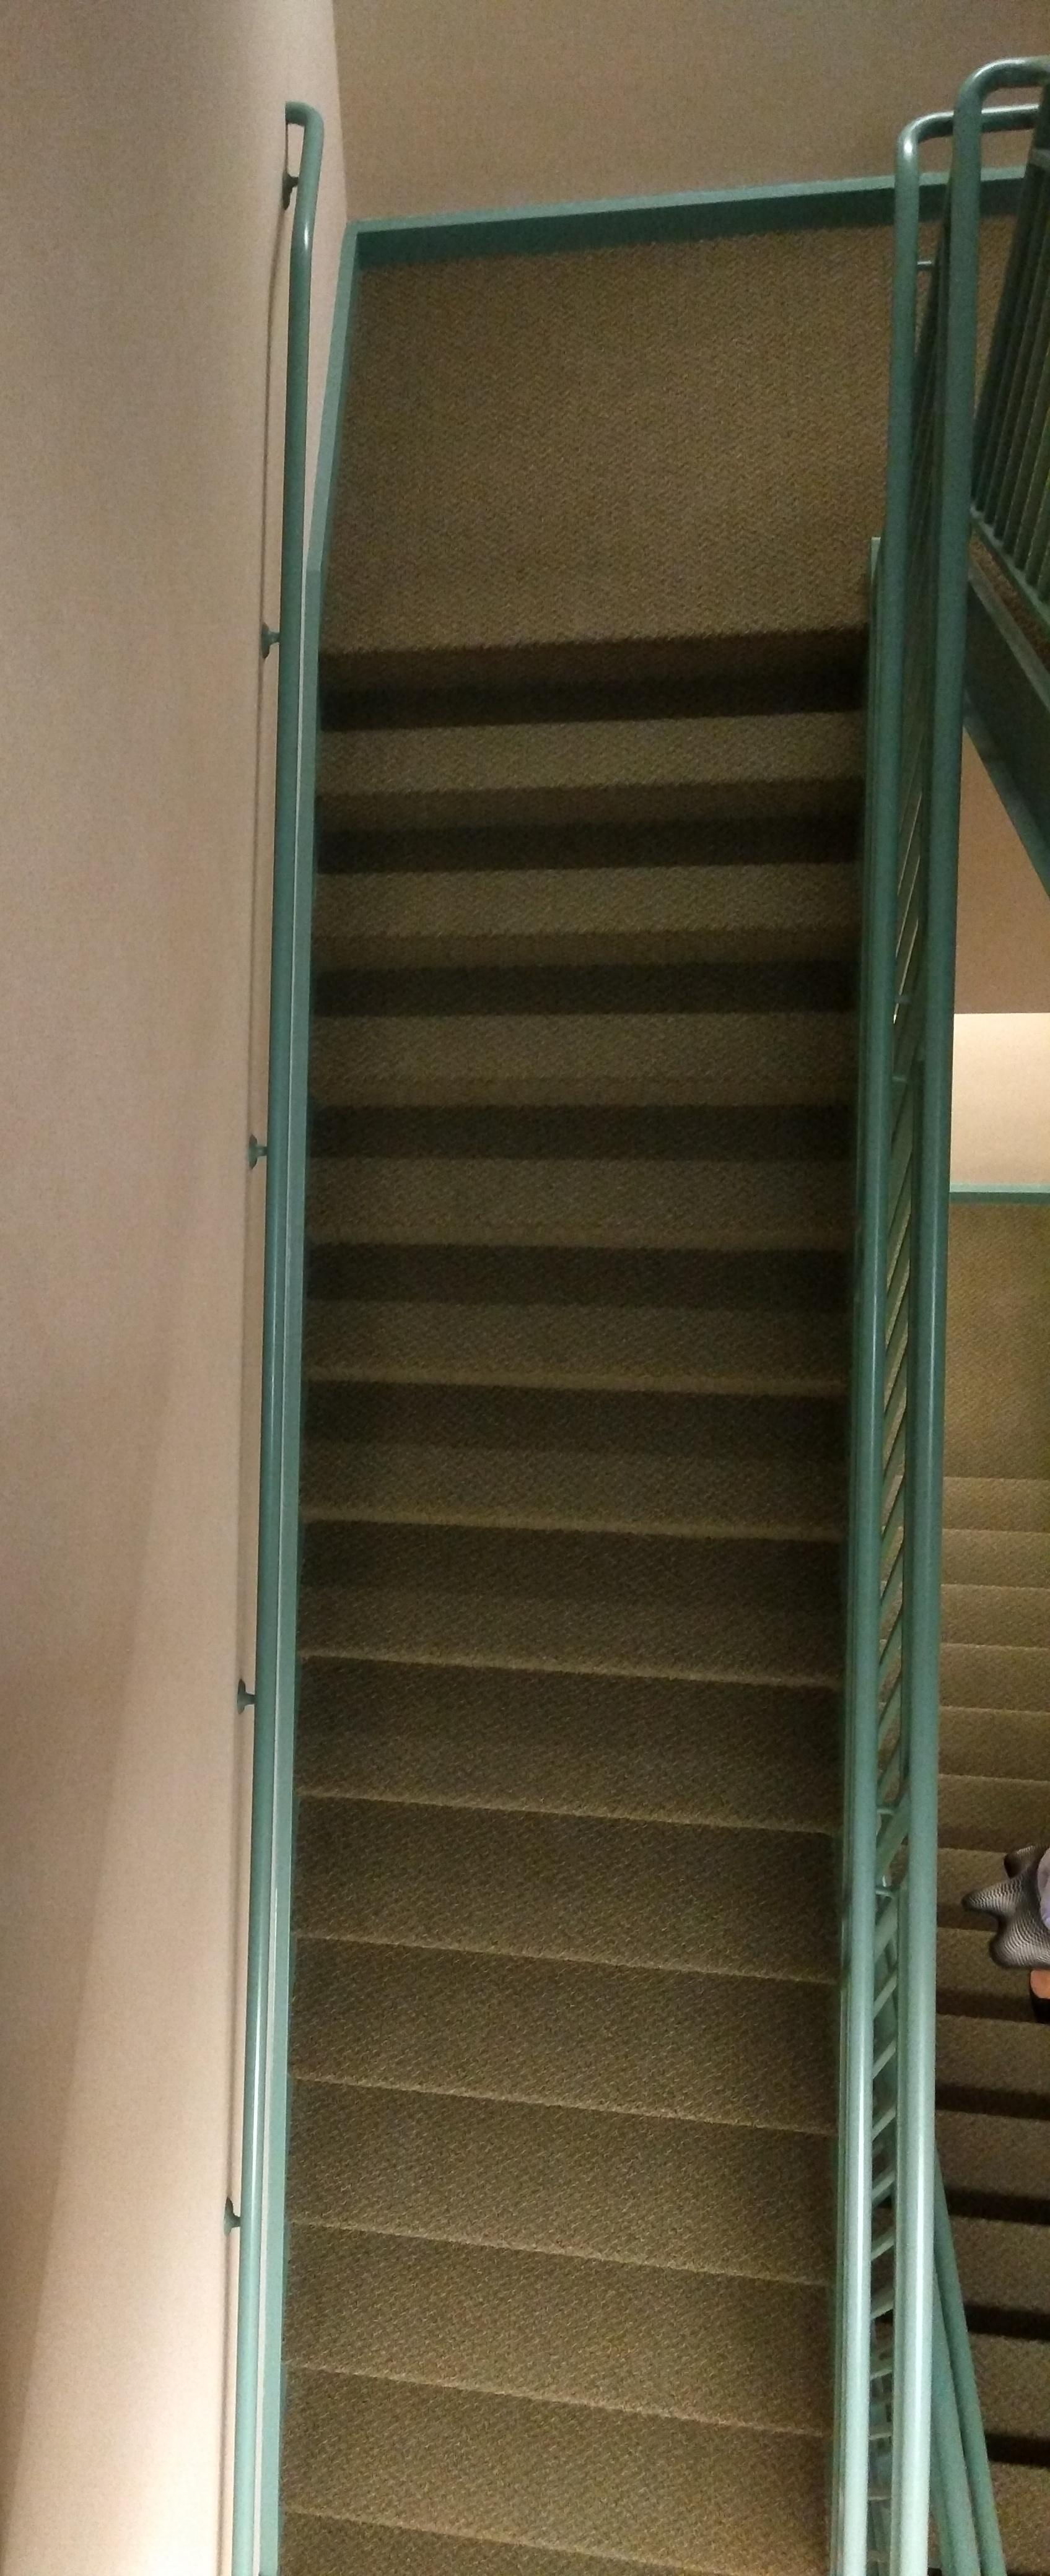stairs_up: (299, 651, 876, 2553)
